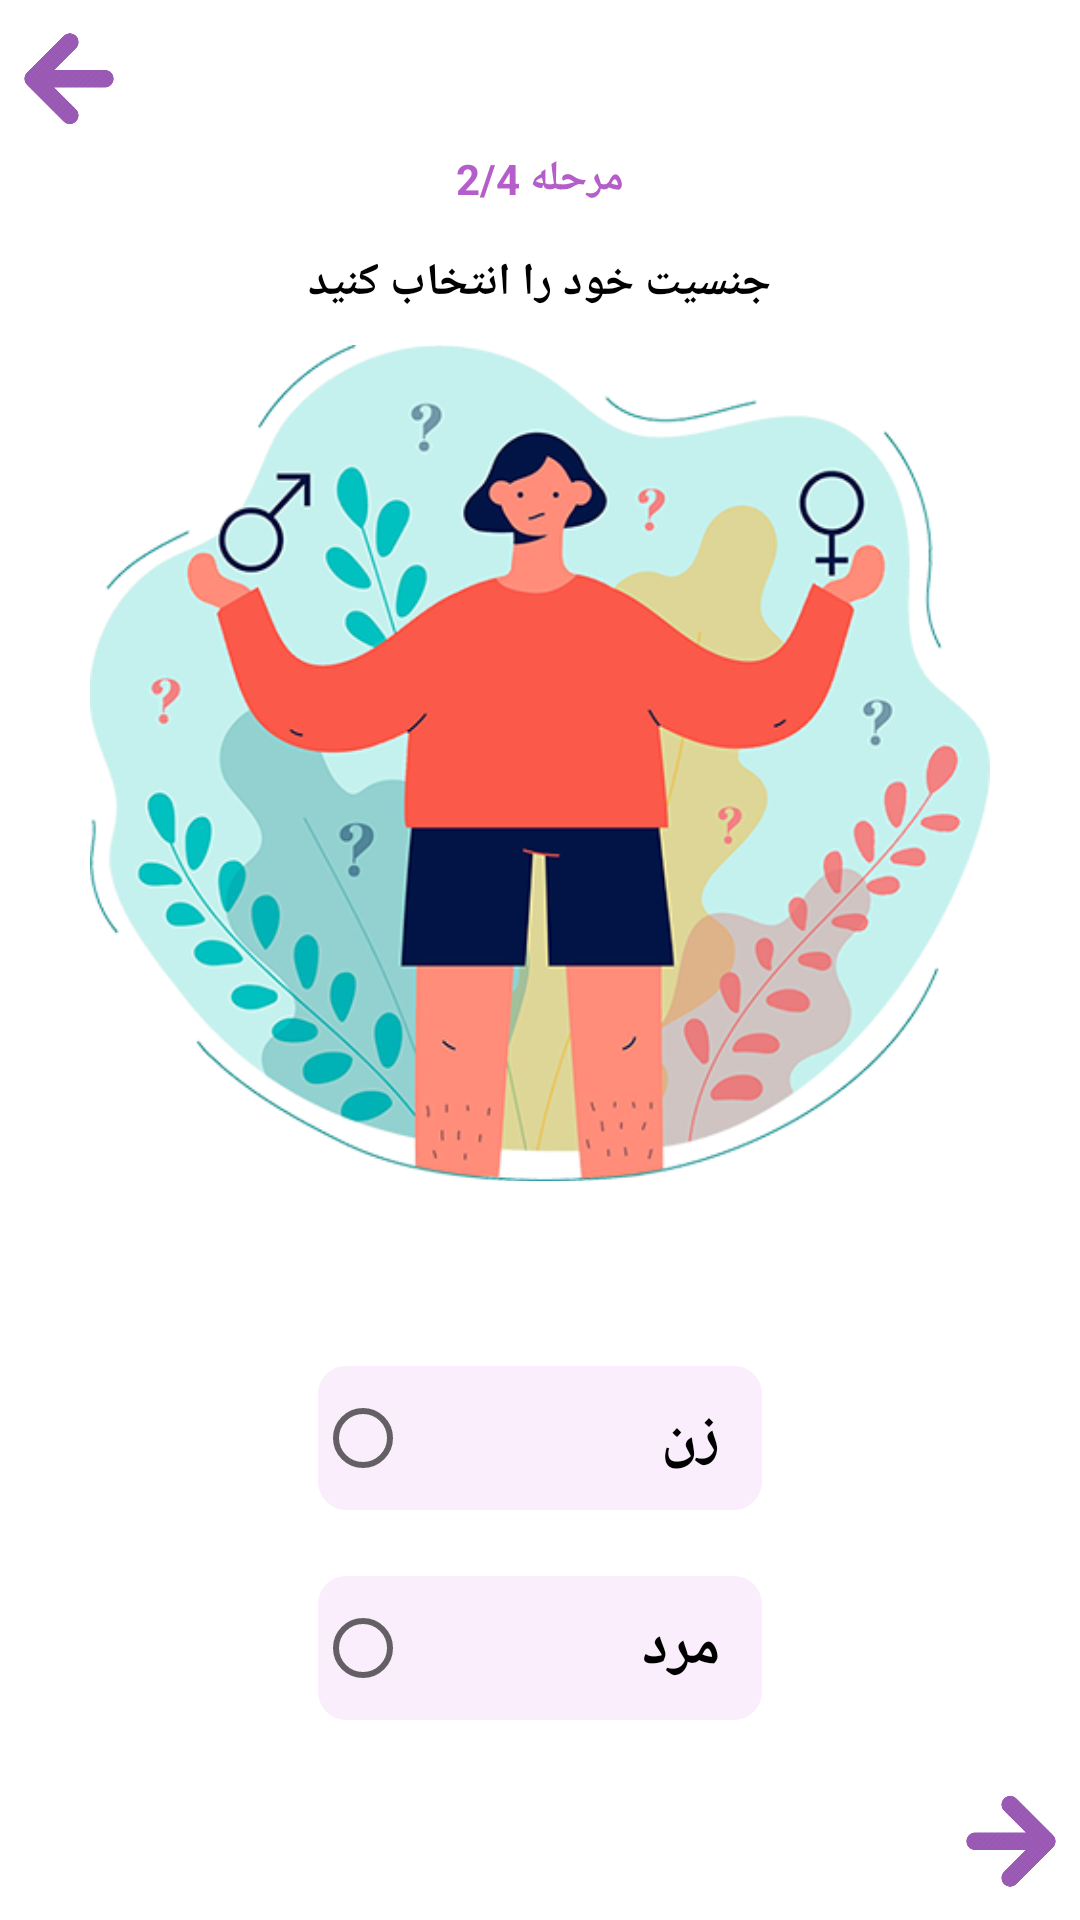

Icon click points for this 1080×1920 phone screenshot, format [x,y]:
next: [1011,1841]
